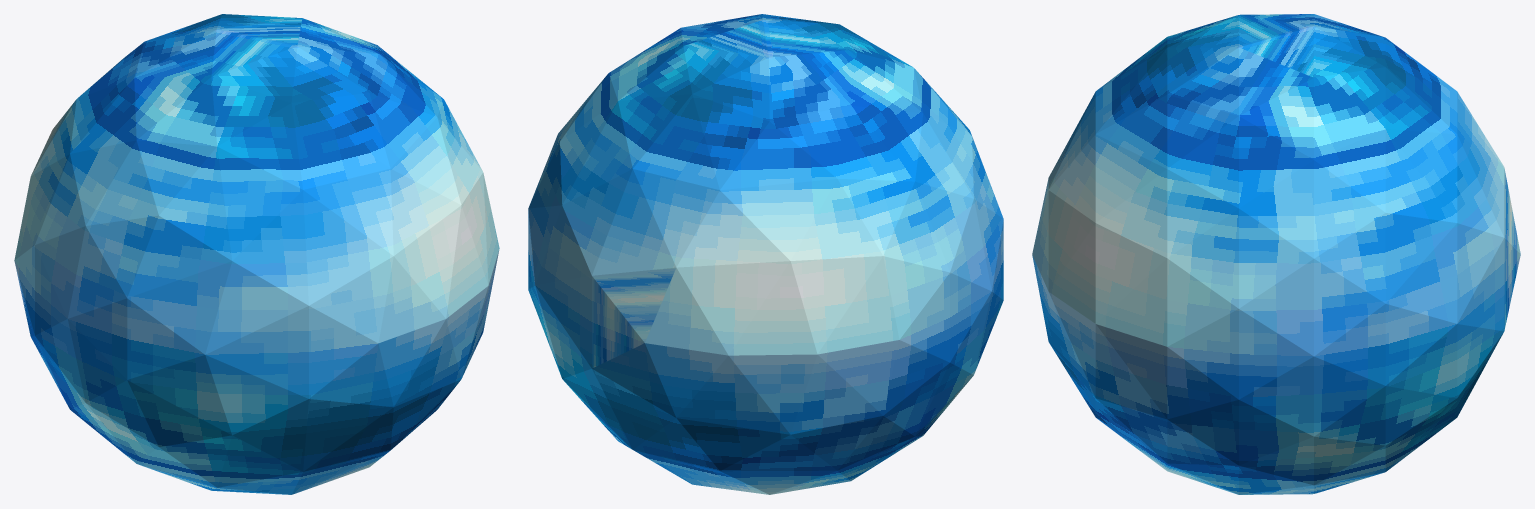
File: Blue Orb.obj
3 renders of one model, left to right at view 1: azimuth 30°, elevation 25°; view 2: azimuth 150°, elevation 25°; view 3: azimuth 270°, elevation 25°, orthographic.
Parts seen in each view (by area): view 1: MODELS_bin_035:poly000; view 2: MODELS_bin_035:poly000; view 3: MODELS_bin_035:poly000.
Boxes of the visible parts, x1,y1,x2,y2 form: MODELS_bin_035:poly000: (14,14,499,494); MODELS_bin_035:poly000: (528,14,1003,494); MODELS_bin_035:poly000: (1032,14,1520,494).
Size of the model in its own units: 1.36 by 1.36 by 1.38.
1 material, 1 textured.
